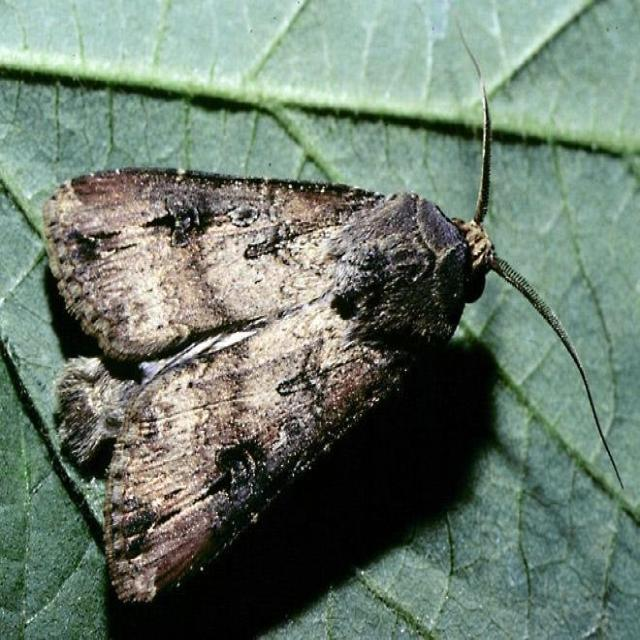black cutworm: (31, 137, 547, 617)
